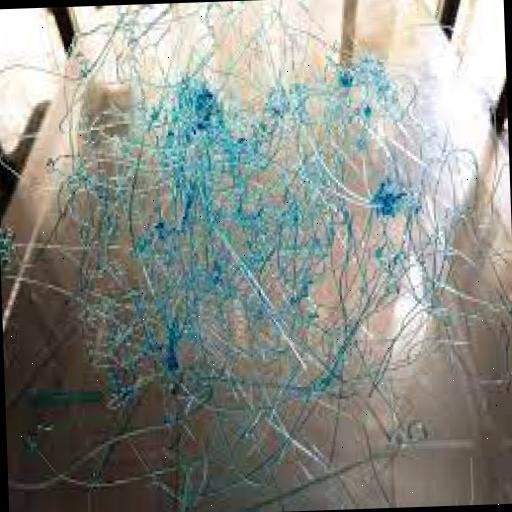spaghetti: (35, 22, 448, 444)
